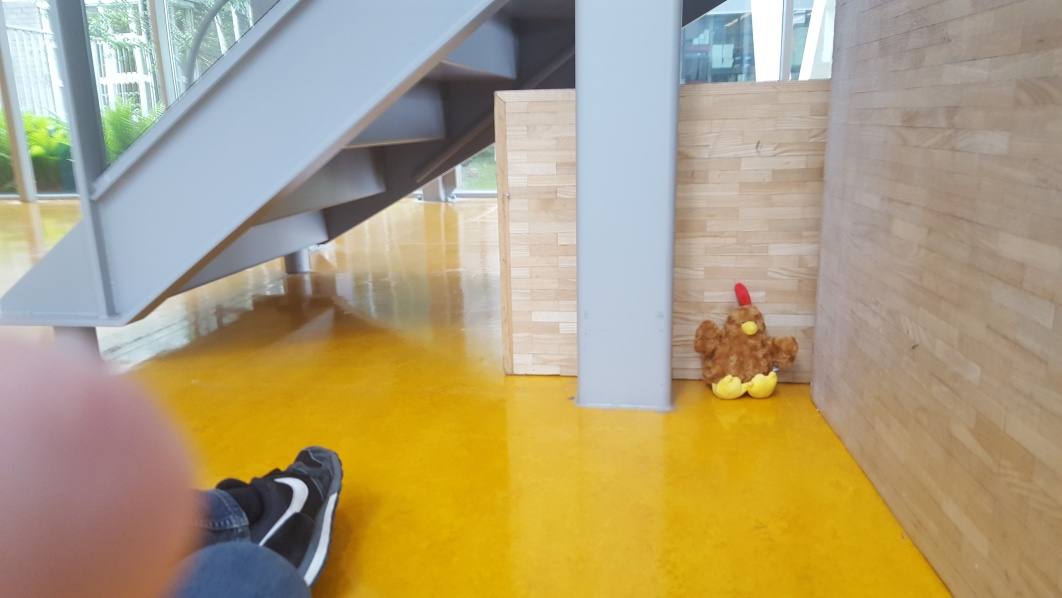chicken: (690, 284, 800, 399)
